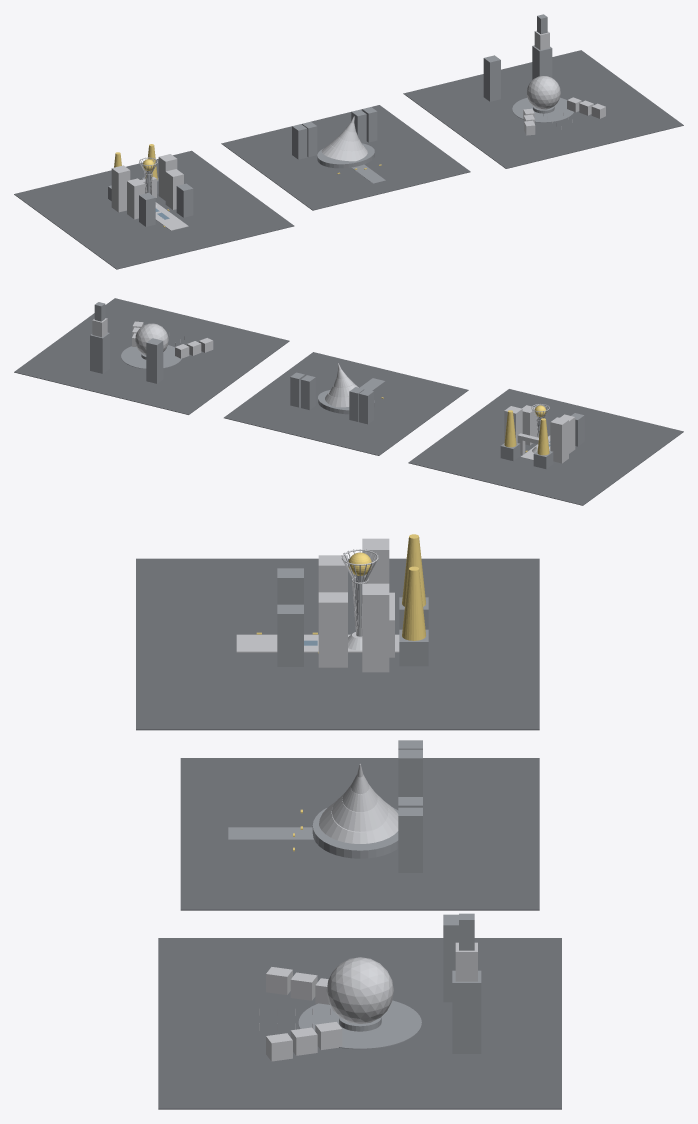
The model's file is astana_full.glb.
The picture shows the model from 3 angles, top to bottom: view 1: azimuth 30°, elevation 25°; view 2: azimuth 150°, elevation 25°; view 3: azimuth 270°, elevation 25°; orthographic projection. The views are drawn at different scales.
Visible parts, largest first — view 1: Z3_Ground, Z1_Ground, Z2_Ground, NurAlem_Sphere, ExpoBgTower_L, Expo_Plaza, NurzholTower3_L, AbuDhabi_Base, KS_Podium, NurzholTower2_R, NurzholTower1_L, NurzholTower1_R (+6 smaller); view 2: Z3_Ground, Z1_Ground, Z2_Ground, NurzholTower3_L, ExpoBgTower_L, AbuDhabi_Base, Expo_Plaza, NurAlem_Sphere, KS_BgTower_-68, KS_BgTower_52, NurzholTower1_R, NurzholTower3_R (+4 smaller); view 3: Z1_Ground, Z3_Ground, Z2_Ground, NurAlem_Sphere, Expo_Plaza, NurzholTower3_R, NurzholTower1_R, AbuDhabi_Base, NurzholTower2_R, KS_BgTower_74, KS_Podium, KS_TentSeg_0 (+10 smaller).
Part boxes in pixels (left/top/right/bottom): Z3_Ground: left=403, top=50, right=683, bottom=168; Z1_Ground: left=14, top=150, right=294, bottom=269; Z2_Ground: left=221, top=105, right=470, bottom=210; NurAlem_Sphere: left=526, top=76, right=560, bottom=109; ExpoBgTower_L: left=483, top=55, right=500, bottom=101; Expo_Plaza: left=512, top=97, right=574, bottom=122; NurzholTower3_L: left=111, top=165, right=130, bottom=212; AbuDhabi_Base: left=532, top=45, right=552, bottom=79; KS_Podium: left=317, top=143, right=374, bottom=168; NurzholTower2_R: left=176, top=183, right=193, bottom=217; NurzholTower1_L: left=127, top=178, right=145, bottom=219; NurzholTower1_R: left=165, top=169, right=183, bottom=209; Z3_Ground: left=14, top=298, right=289, bottom=414; Z1_Ground: left=408, top=389, right=683, bottom=505; Z2_Ground: left=224, top=352, right=468, bottom=455; NurzholTower3_L: left=550, top=417, right=568, bottom=463; ExpoBgTower_L: left=146, top=338, right=163, bottom=383; AbuDhabi_Base: left=90, top=332, right=109, bottom=373; Expo_Plaza: left=121, top=345, right=181, bottom=368; NurAlem_Sphere: left=135, top=323, right=168, bottom=355; KS_BgTower_-68: left=359, top=389, right=373, bottom=424; KS_BgTower_52: left=301, top=375, right=315, bottom=409; NurzholTower1_R: left=522, top=405, right=537, bottom=445; NurzholTower3_R: left=504, top=406, right=522, bottom=442; Z1_Ground: left=136, top=558, right=539, bottom=730; Z3_Ground: left=158, top=938, right=561, bottom=1109; Z2_Ground: left=180, top=758, right=539, bottom=910; NurAlem_Sphere: left=326, top=957, right=393, bottom=1023; Expo_Plaza: left=298, top=1000, right=421, bottom=1049; NurzholTower3_R: left=362, top=583, right=389, bottom=672; NurzholTower1_R: left=318, top=592, right=347, bottom=667; AbuDhabi_Base: left=452, top=970, right=481, bottom=1053; NurzholTower2_R: left=277, top=604, right=303, bottom=666; KS_BgTower_74: left=398, top=807, right=422, bottom=872; KS_Podium: left=312, top=807, right=398, bottom=858; KS_TentSeg_0: left=319, top=801, right=398, bottom=843.
Size of the model in its own units: 1160 by 130 by 380.
